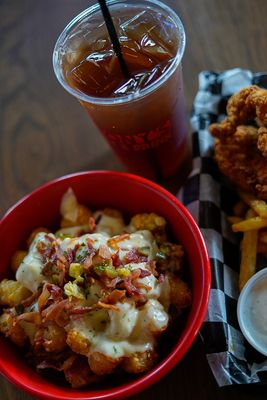pizza: (51, 0, 191, 186)
sushi: (3, 170, 212, 399), (237, 267, 267, 357)
